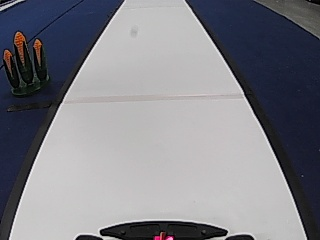corn: (1, 29, 50, 94)
